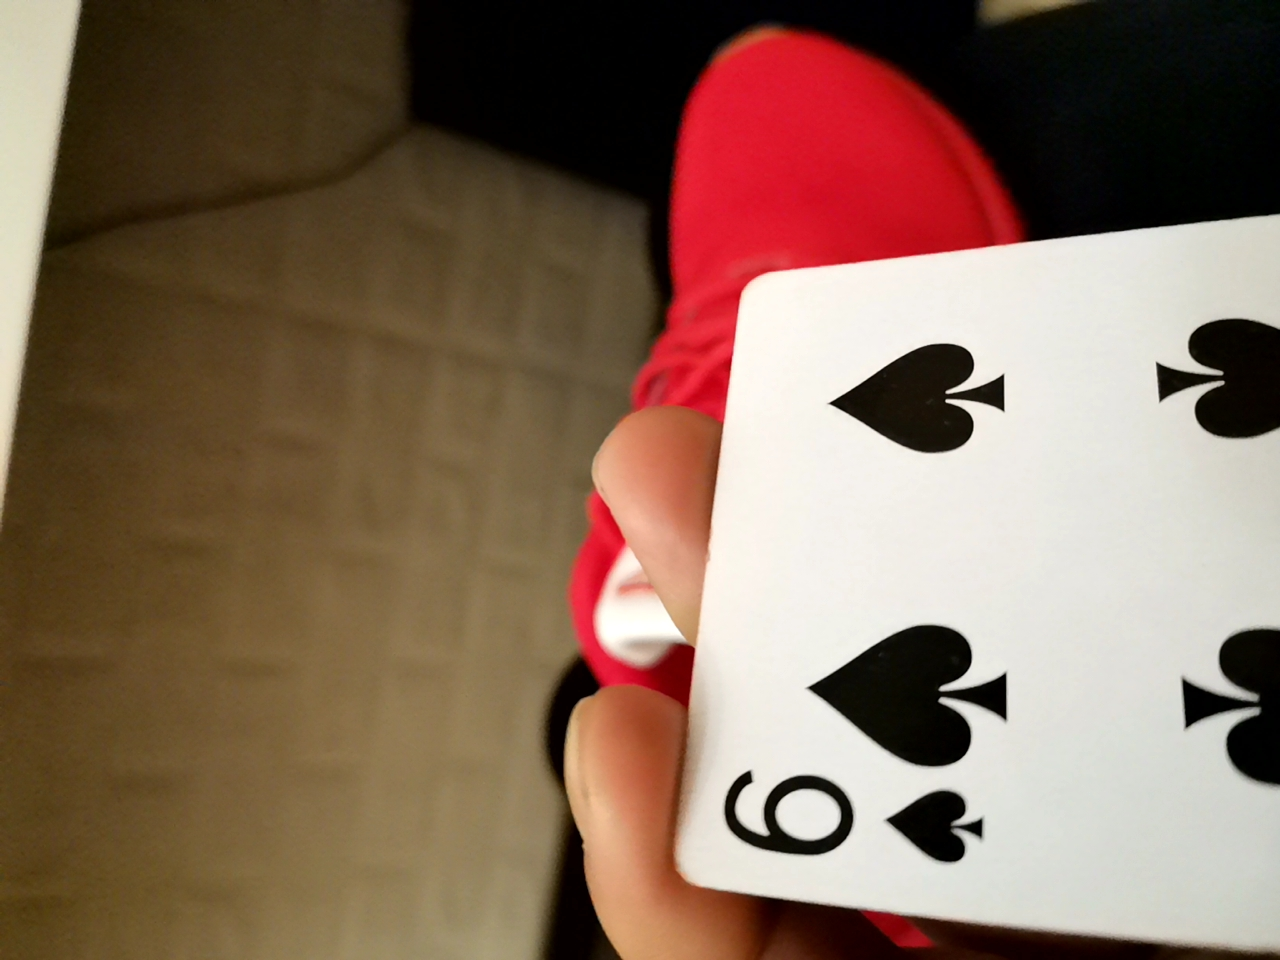ht 6: (650, 188, 1279, 951)
